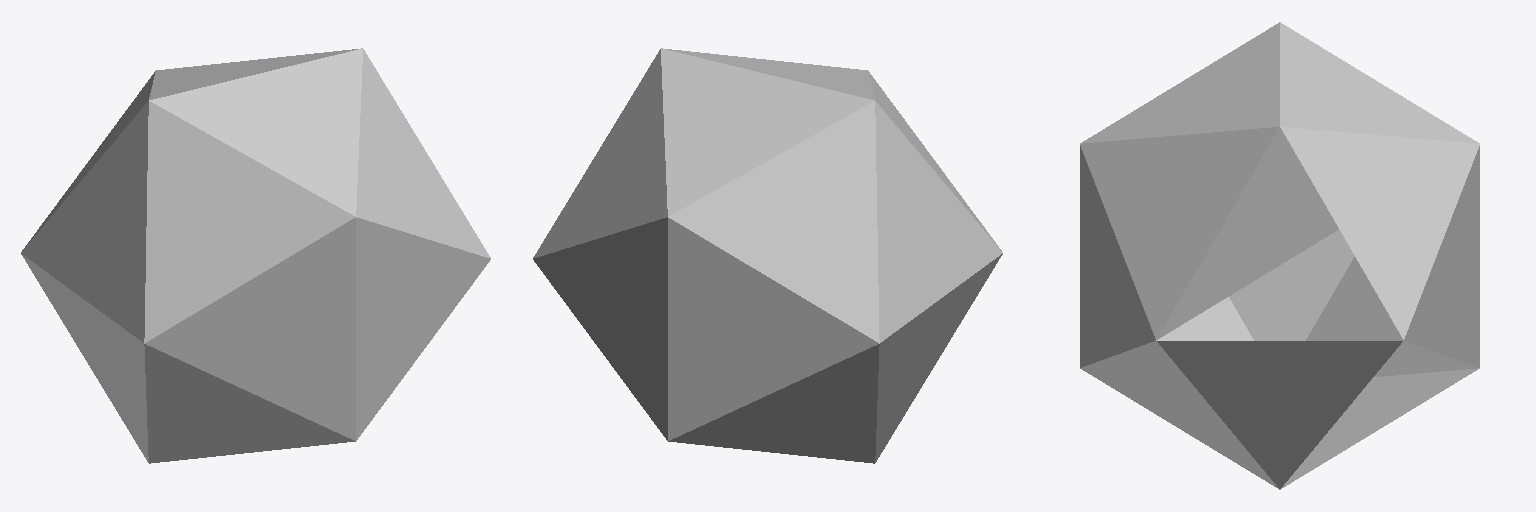
The model's file is dice_duplicate.obj.
3 views of the same model, side by side, from view 1: azimuth 30°, elevation 25°; view 2: azimuth 150°, elevation 25°; view 3: azimuth 270°, elevation 25° (orthographic).
Bounding box in the file's own units: 1.62 × 1.62 × 1.62.